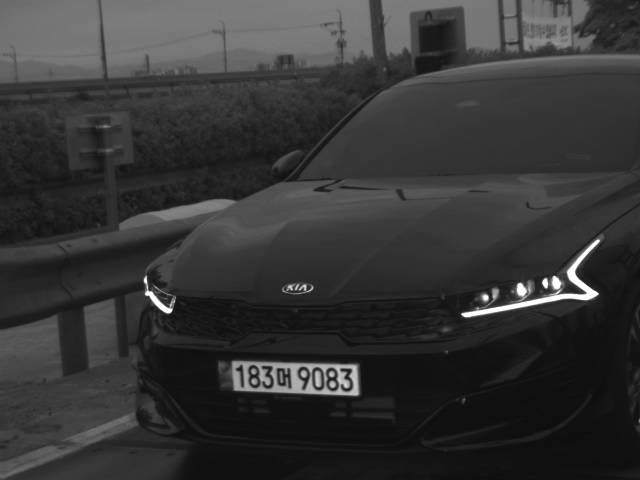car: (133, 53, 640, 462)
plate: (213, 356, 366, 400)
